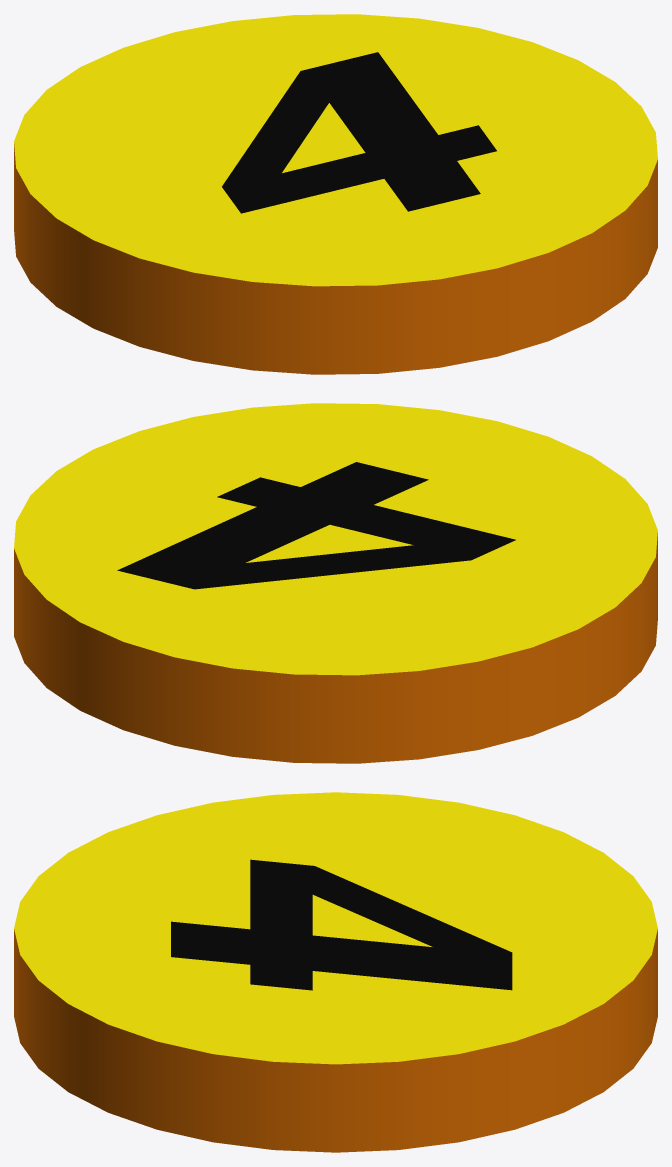
The model's file is four.fbx.
3 views of the same model, one above another, from view 1: azimuth 30°, elevation 25°; view 2: azimuth 150°, elevation 25°; view 3: azimuth 270°, elevation 25° (orthographic).
Visible parts, largest first — view 1: ทรงกระบอก.003, ช้อความ.003; view 2: ทรงกระบอก.003, ช้อความ.003; view 3: ทรงกระบอก.003, ช้อความ.003.
Boxes of the visible parts, x1,y1,x2,y2 form: ทรงกระบอก.003: (14,14,657,374); ช้อความ.003: (222,52,496,213); ทรงกระบอก.003: (14,403,657,763); ช้อความ.003: (117,462,515,589); ทรงกระบอก.003: (14,792,657,1152); ช้อความ.003: (171,859,512,990).
Bounding box in the file's own units: 200 × 30.79 × 200.
